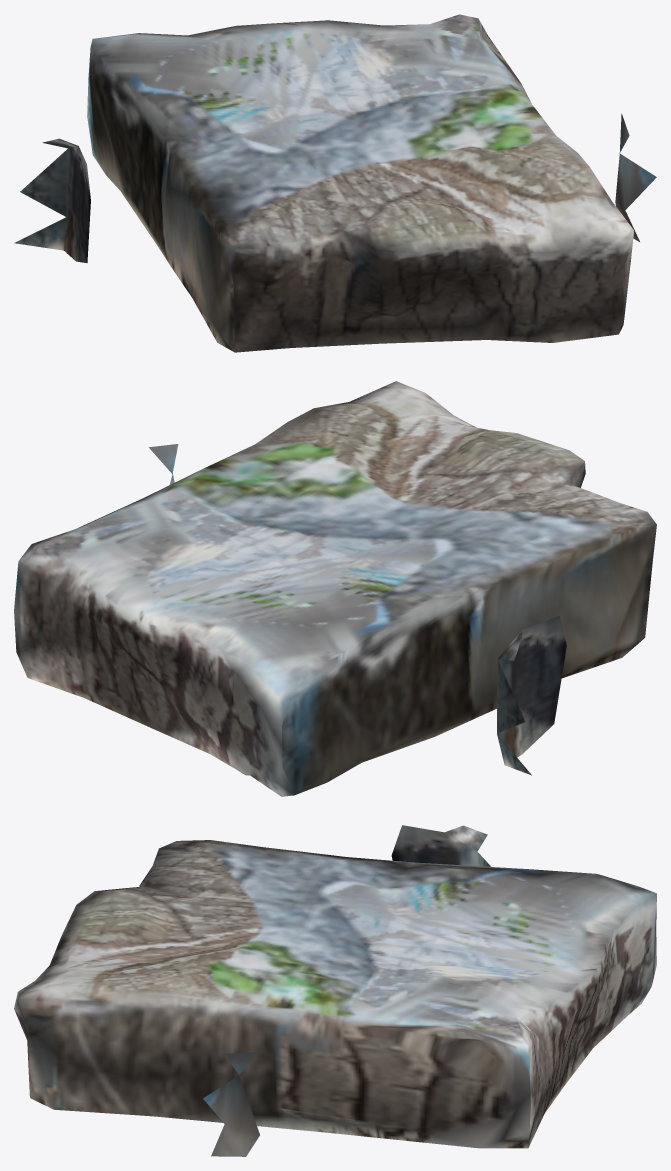
Rendered from SnowCanyon_Floor.fbx.
3 renders of one model, top to bottom at view 1: azimuth 30°, elevation 25°; view 2: azimuth 150°, elevation 25°; view 3: azimuth 270°, elevation 25°, orthographic. The views are drawn at different scales.
Visible parts, largest first — view 1: SnowCanyon_Floor_Mesh; view 2: SnowCanyon_Floor_Mesh; view 3: SnowCanyon_Floor_Mesh.
Part boxes in pixels (left/top/right/bottom): SnowCanyon_Floor_Mesh: left=14, top=14, right=656, bottom=352; SnowCanyon_Floor_Mesh: left=14, top=381, right=656, bottom=796; SnowCanyon_Floor_Mesh: left=14, top=825, right=656, bottom=1156.
Bounding box in the file's own units: 6 × 1.54 × 6.98.
Materials: 1 (1 with a texture image).
